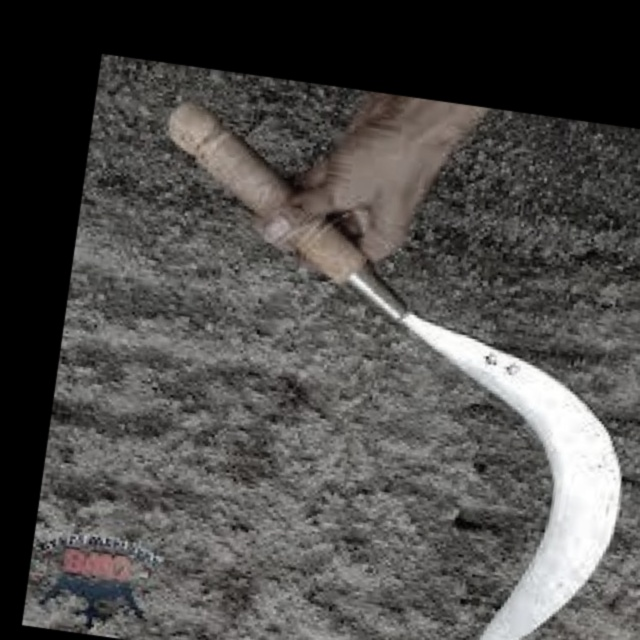Sharp-Object: (83, 85, 640, 640)
